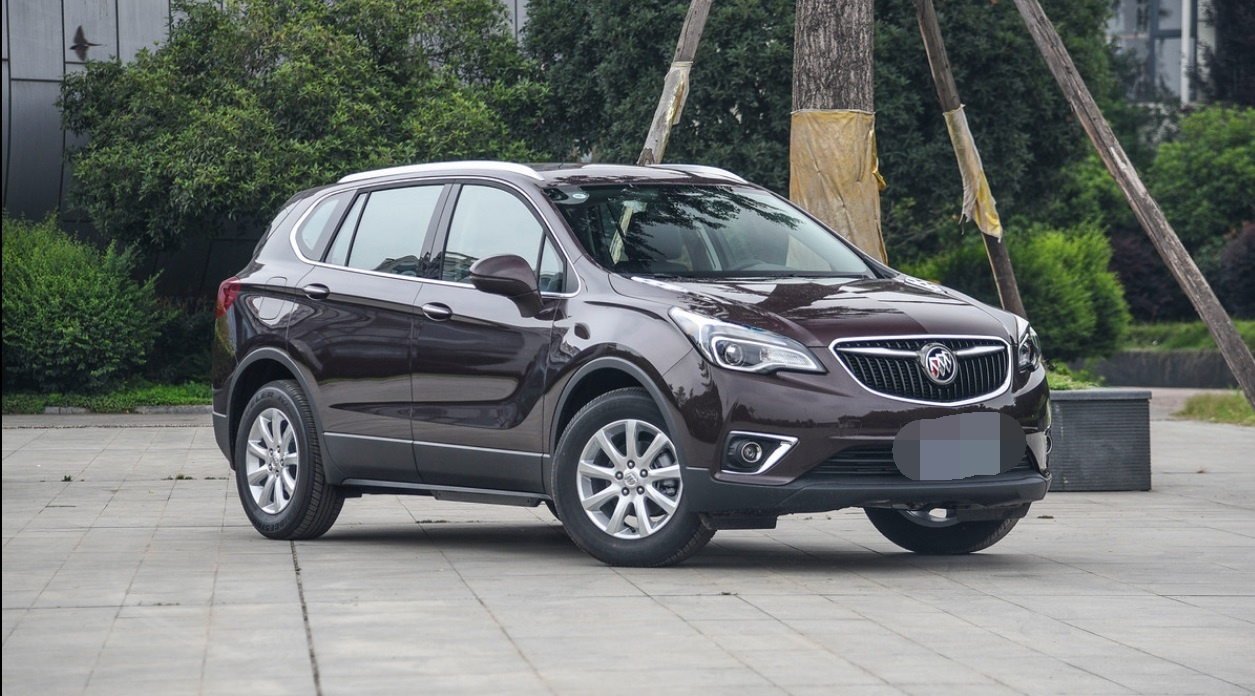SUV: (212, 145, 1067, 587)
